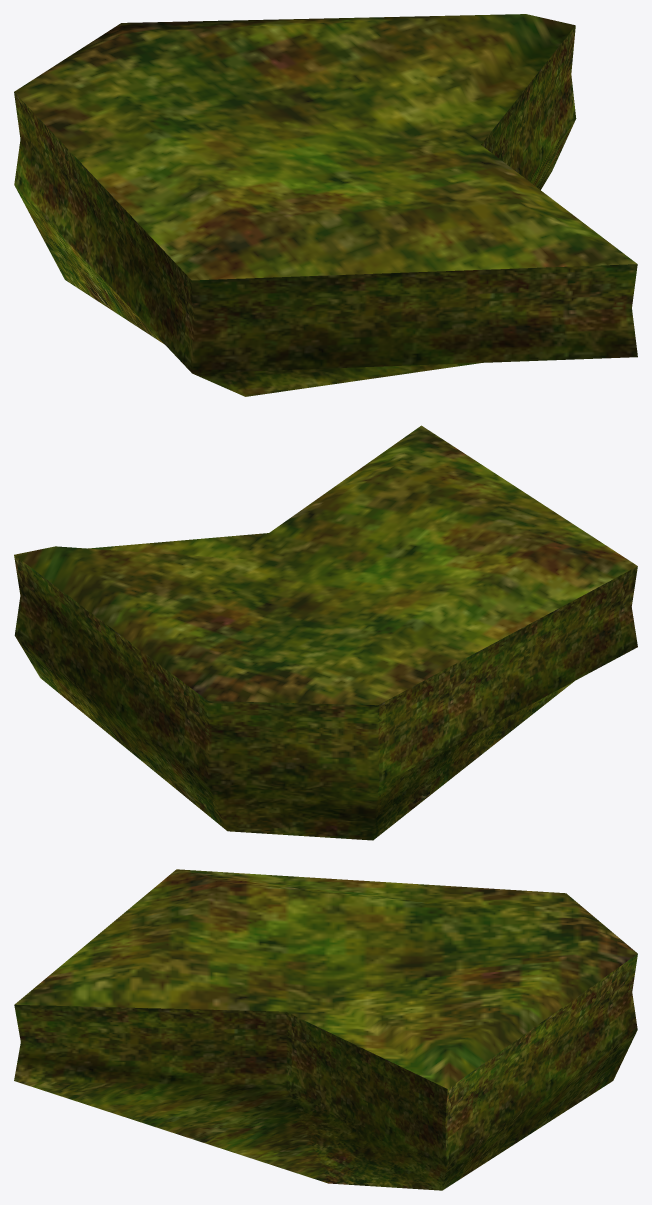
The model's file is TROLLHOLE02_RM_FALL_ROCK01.fbx.
3 renders of one model, top to bottom at view 1: azimuth 30°, elevation 25°; view 2: azimuth 150°, elevation 25°; view 3: azimuth 270°, elevation 25°, orthographic. The views are drawn at different scales.
Visible parts, largest first — view 1: TROLLHOLE02_RM_FALL_ROCK01; view 2: TROLLHOLE02_RM_FALL_ROCK01; view 3: TROLLHOLE02_RM_FALL_ROCK01.
Part boxes in pixels (<box>): TROLLHOLE02_RM_FALL_ROCK01: <box>14,14,637,396</box>; TROLLHOLE02_RM_FALL_ROCK01: <box>14,425,637,840</box>; TROLLHOLE02_RM_FALL_ROCK01: <box>14,869,637,1190</box>.
Size of the model in its own units: 18559 by 7521 by 22266.
1 material, 1 textured.
